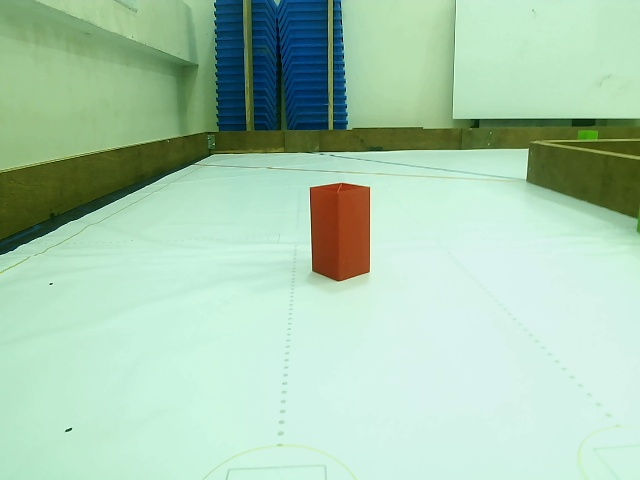red: (310, 183, 371, 278)
